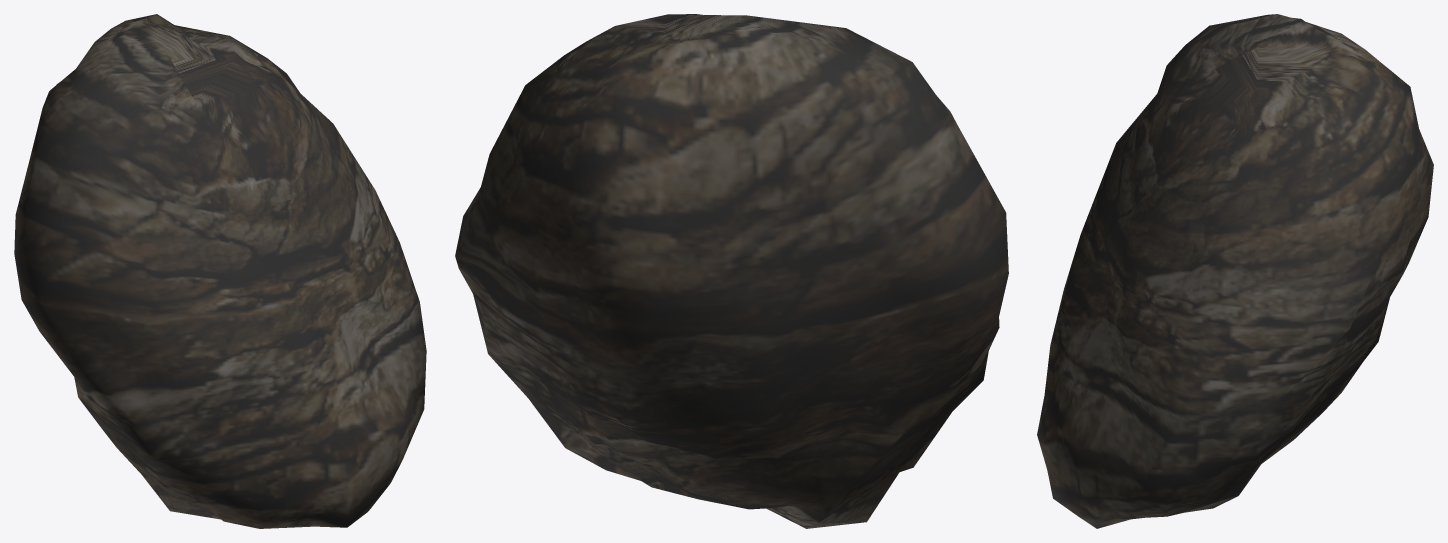
3 renders of one model, left to right at view 1: azimuth 30°, elevation 25°; view 2: azimuth 150°, elevation 25°; view 3: azimuth 270°, elevation 25°, orthographic. The views are drawn at different scales.
Parts seen in each view (by area): view 1: AsteroidC3; view 2: AsteroidC3; view 3: AsteroidC3.
Boxes of the visible parts, <box> form: AsteroidC3: <box>14,14,426,528</box>; AsteroidC3: <box>455,14,1008,528</box>; AsteroidC3: <box>1037,14,1433,528</box>.
Bounding box in the file's own units: 1.51 × 1.65 × 1.37.
1 material, 1 textured.
